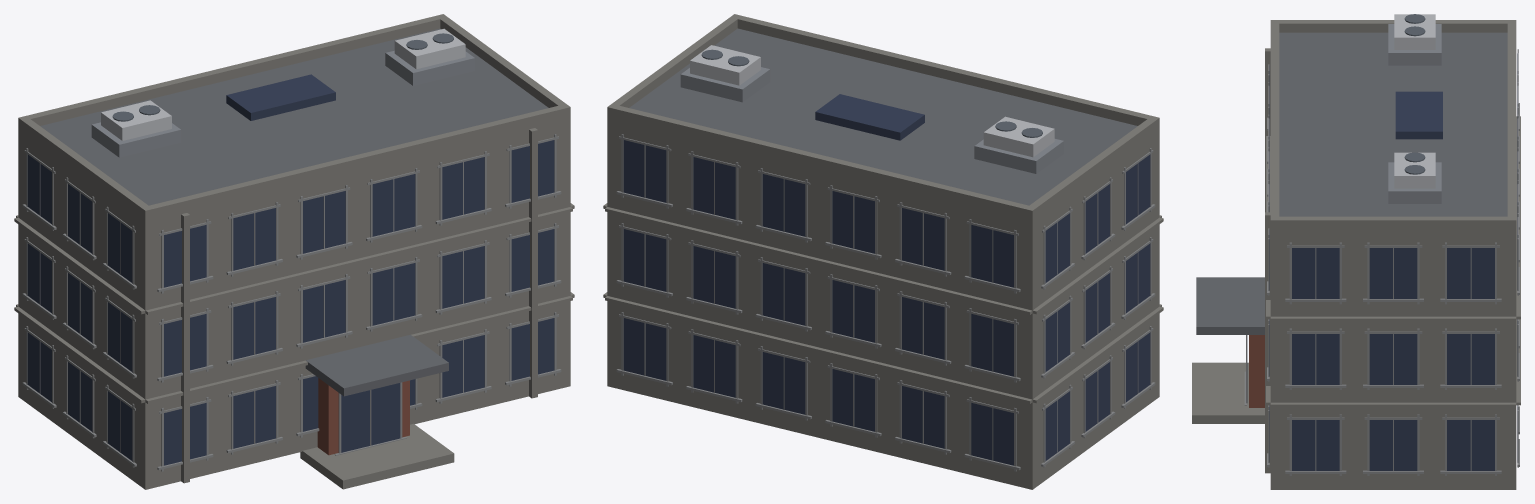
The model's file is civic_long_06_lvl1.glb.
3 renders of one model, left to right at view 1: azimuth 30°, elevation 25°; view 2: azimuth 150°, elevation 25°; view 3: azimuth 270°, elevation 25°, orthographic. The views are drawn at different scales.
Visible parts, largest first — view 1: civic_long_06; view 2: civic_long_06; view 3: civic_long_06.
Part boxes in pixels (<box>): civic_long_06: <box>14,14,574,489</box>; civic_long_06: <box>603,14,1163,489</box>; civic_long_06: <box>1192,14,1520,489</box>.
Size of the model in its own units: 1 by 0.6936 by 0.6802.
